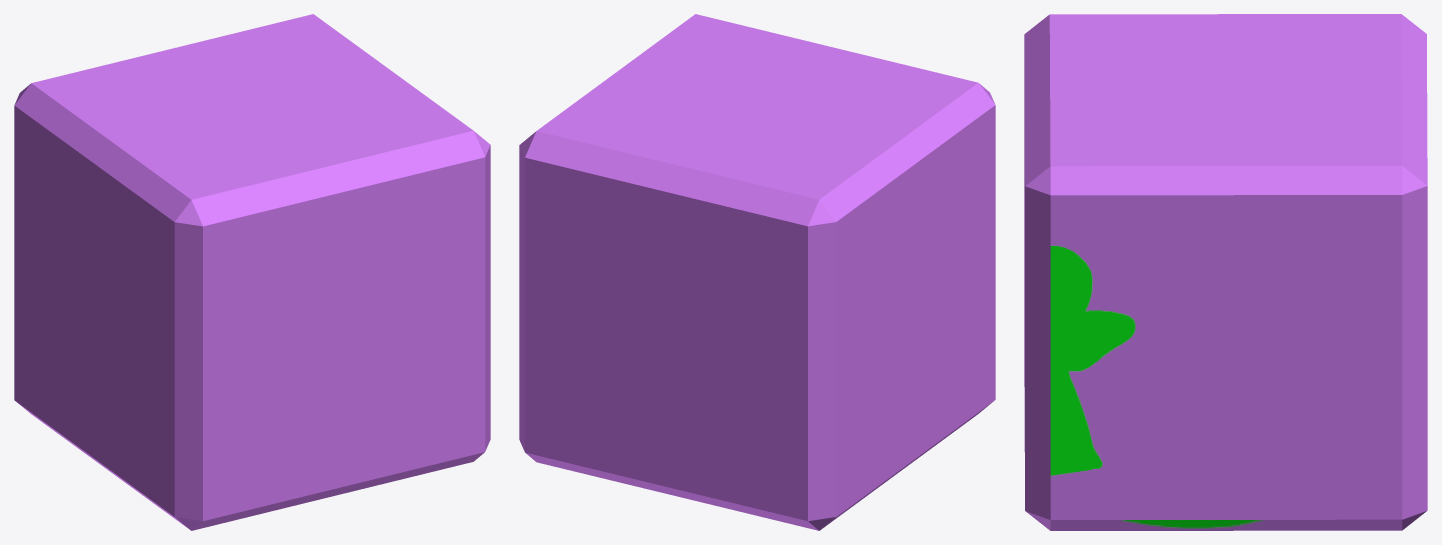
The model's file is Stage.obj.
3 renders of one model, left to right at view 1: azimuth 30°, elevation 25°; view 2: azimuth 150°, elevation 25°; view 3: azimuth 270°, elevation 25°, orthographic. The views are drawn at different scales.
Visible parts, largest first — view 1: 立方体; view 2: 立方体; view 3: 立方体.
Boxes of the visible parts, x1,y1,x2,y2 form: 立方体: [14, 14, 490, 530]; 立方体: [519, 14, 995, 530]; 立方体: [1024, 14, 1427, 530].
Size of the model in its own units: 2 by 2 by 2.
